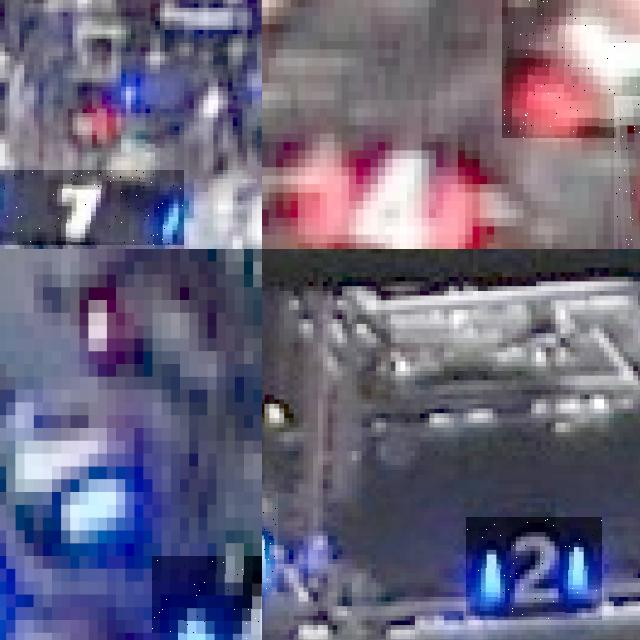B1: (0, 170, 184, 244)
B2: (466, 517, 602, 620), (262, 491, 279, 594)
B4: (152, 555, 262, 640)
R4: (294, 125, 483, 249), (501, 0, 640, 138)
